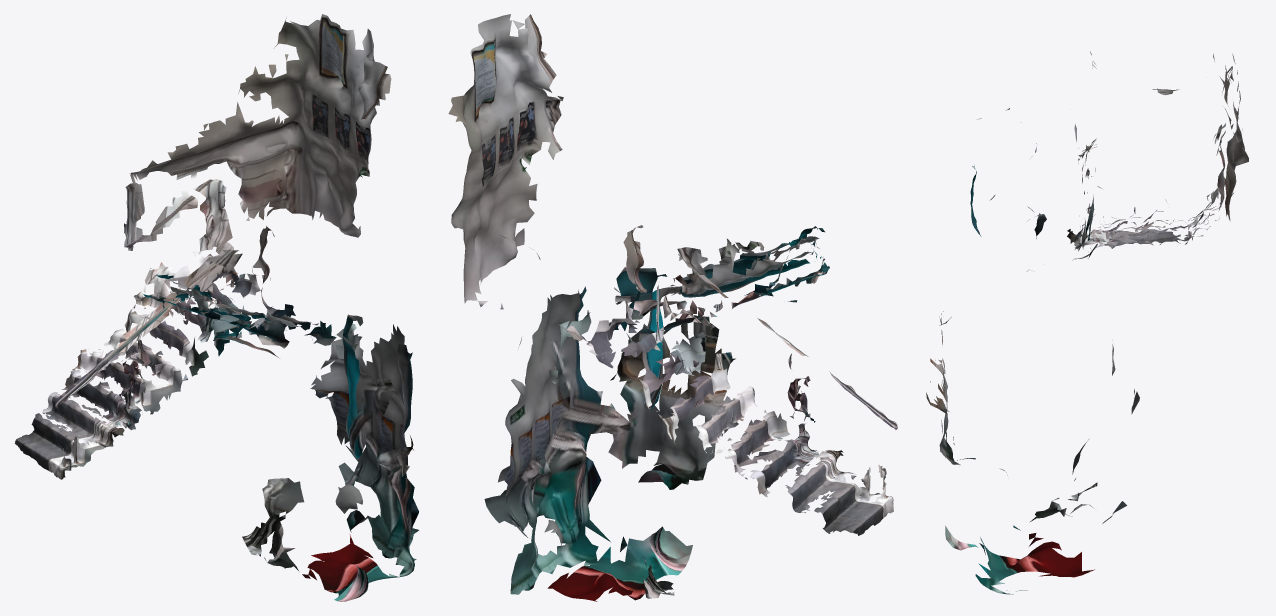
File: 121491-Lt2Tangga-tex 1.glb
3 views of the same model, side by side, from view 1: azimuth 30°, elevation 25°; view 2: azimuth 150°, elevation 25°; view 3: azimuth 270°, elevation 25° (orthographic). The views are drawn at different scales.
Visible parts, largest first — view 1: Node; view 2: Node; view 3: Node.
Part boxes in pixels (x1,y1,x2,y2): Node: (14,14,418,601); Node: (448,14,897,601); Node: (926,51,1248,594).
Bounding box in the file's own units: 4.46 × 6.32 × 3.25.
1 material, 1 textured.
